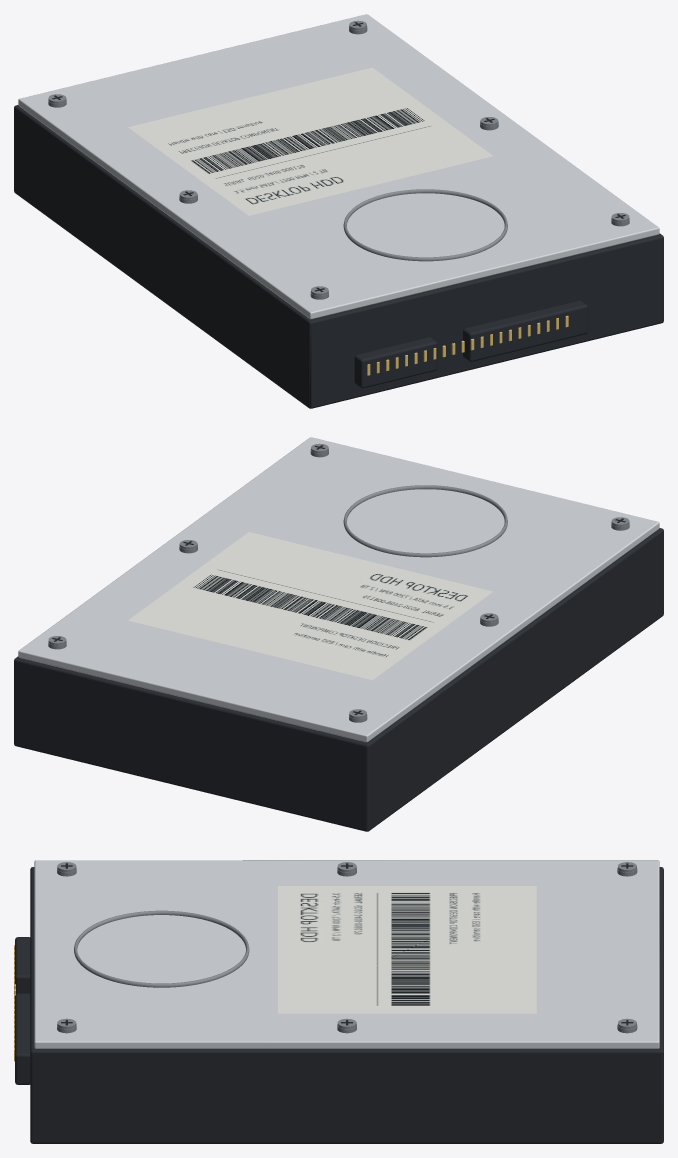
File: hard-drive.glb
The picture shows the model from 3 angles, top to bottom: view 1: azimuth 30°, elevation 25°; view 2: azimuth 150°, elevation 25°; view 3: azimuth 270°, elevation 25°; orthographic projection. The views are drawn at different scales.
Visible parts, largest first — view 1: Steel lid, Drive chassis, Printed drive specification, SATA power socket, SATA data socket, Stamped spindle outline; view 2: Steel lid, Drive chassis, Printed drive specification, Stamped spindle outline; view 3: Steel lid, Drive chassis, Printed drive specification, Stamped spindle outline, SATA power socket, SATA data socket.
Part boxes in pixels (x1,y1,x2,y2): Steel lid: (18, 14, 659, 319); Drive chassis: (14, 105, 663, 408); Printed drive specification: (128, 67, 493, 215); SATA power socket: (463, 300, 587, 361); SATA data socket: (354, 337, 437, 388); Stamped spindle outline: (343, 189, 507, 261); Steel lid: (18, 437, 659, 742); Drive chassis: (14, 528, 663, 831); Printed drive specification: (128, 532, 492, 680); Stamped spindle outline: (343, 485, 507, 557); Steel lid: (34, 860, 659, 1048); Drive chassis: (30, 867, 663, 1143); Printed drive specification: (278, 886, 536, 1013); Stamped spindle outline: (74, 910, 249, 987); SATA power socket: (15, 993, 30, 1084); SATA data socket: (15, 937, 30, 993).
Bounding box in the file's own units: 0.1016 × 0.0312 × 0.1507.
4 materials, 4 textured.
